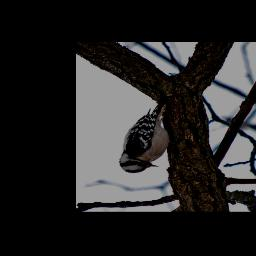Woodpecker: (119, 97, 183, 173)
